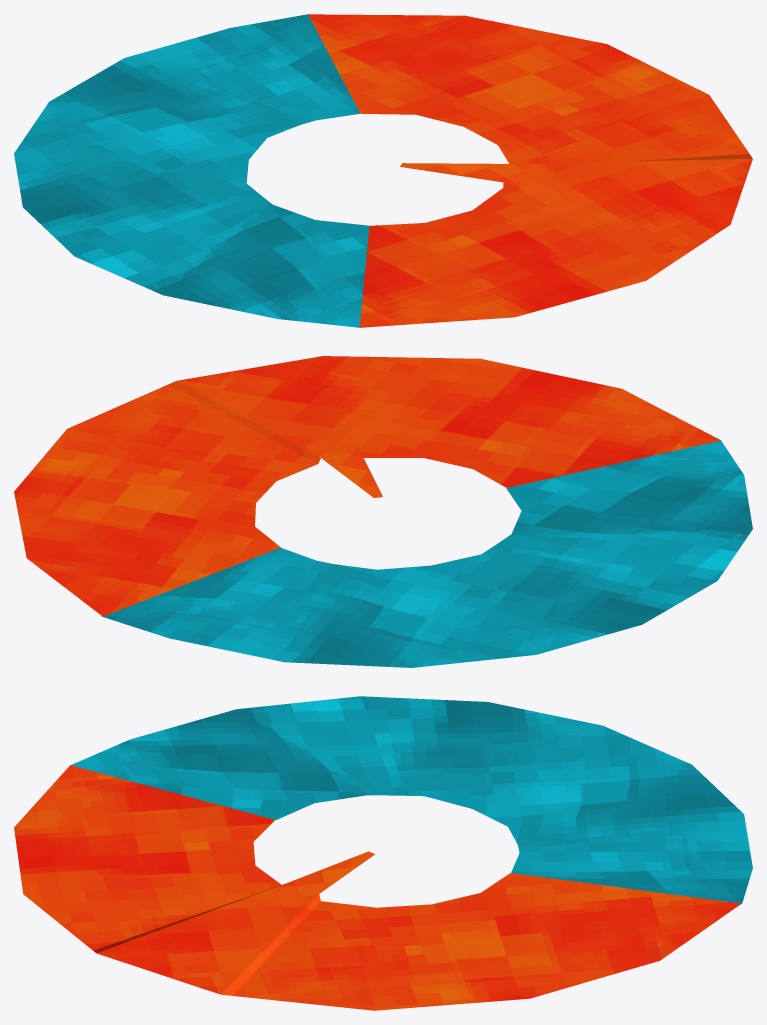
Rendered from Oblivion2.fbx.
The picture shows the model from 3 angles, top to bottom: view 1: azimuth 30°, elevation 25°; view 2: azimuth 150°, elevation 25°; view 3: azimuth 270°, elevation 25°; orthographic projection.
Parts seen in each view (by area): view 1: Lava, Water; view 2: Lava, Water; view 3: Lava, Water.
Boxes of the visible parts, <box> form: Lava: <box>308,14,752,327</box>; Water: <box>14,14,369,327</box>; Lava: <box>14,356,720,616</box>; Water: <box>101,440,752,667</box>; Lava: <box>14,765,740,1010</box>; Water: <box>71,696,752,904</box>.
Size of the model in its own units: 2703 by 25.44 by 2683.
2 materials, 2 textured.
